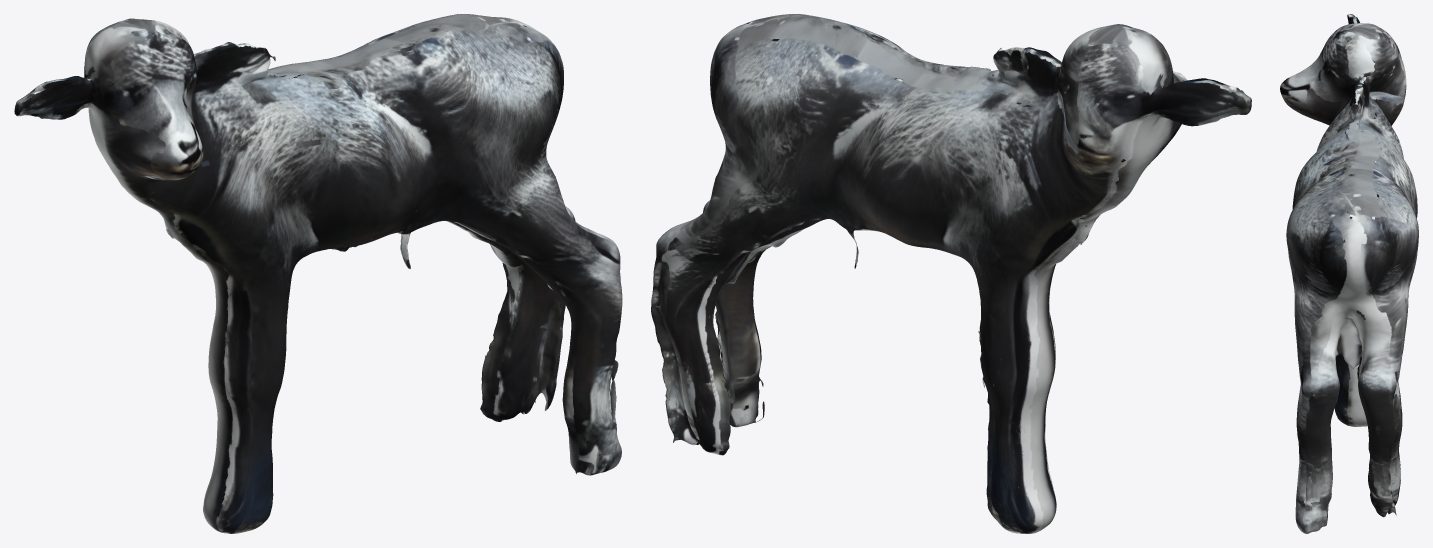
Rendered from bebe.glb.
3 renders of one model, left to right at view 1: azimuth 30°, elevation 25°; view 2: azimuth 150°, elevation 25°; view 3: azimuth 270°, elevation 25°, orthographic. The views are drawn at different scales.
Parts seen in each view (by area): view 1: mesh; view 2: mesh; view 3: mesh.
Boxes of the visible parts, <box> form: mesh: <box>14,14,622,533</box>; mesh: <box>651,14,1251,533</box>; mesh: <box>1280,14,1418,533</box>.
Size of the model in its own units: 1.53 by 1.34 by 0.4644.
Materials: 1 (1 with a texture image).
